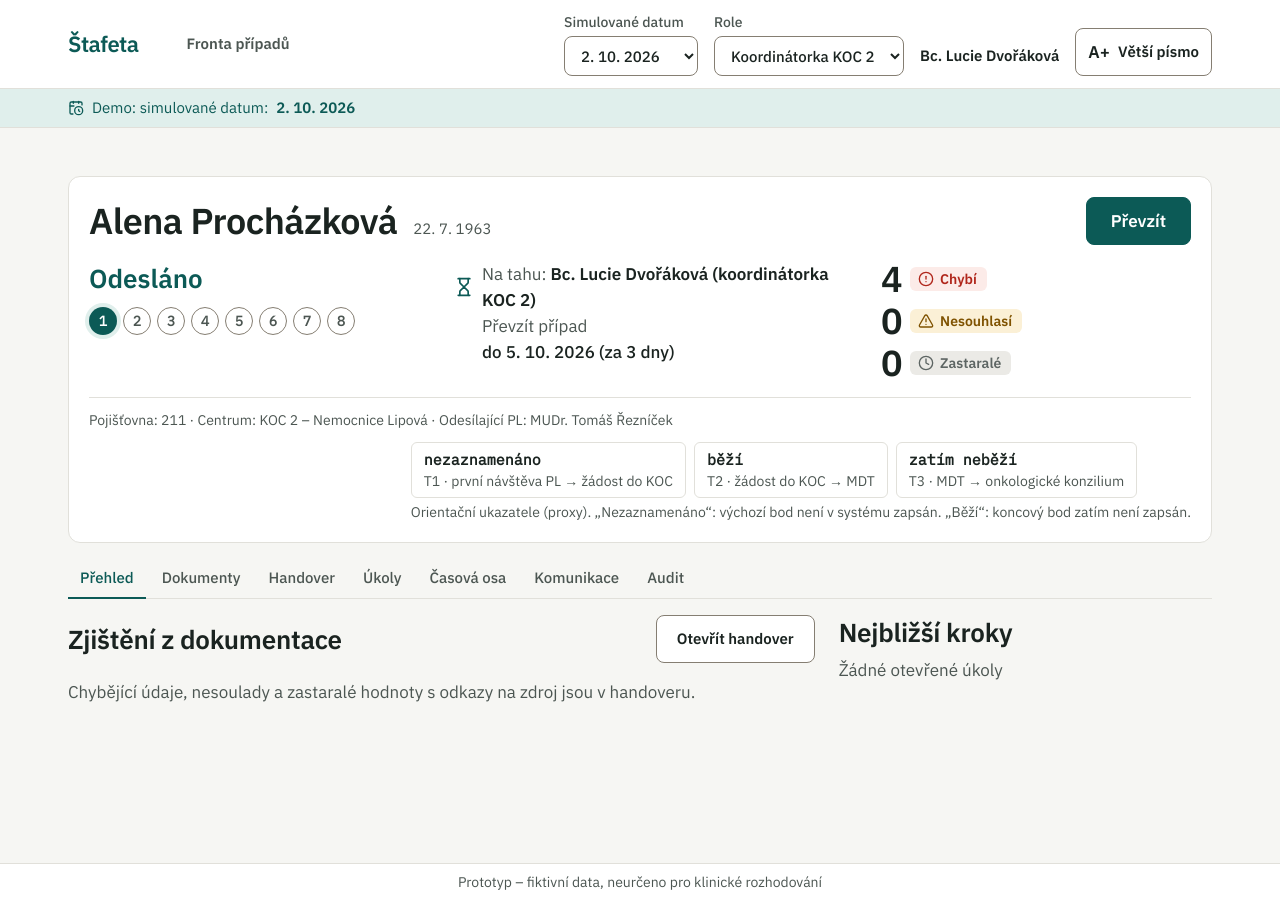
Scenario: demo steps 2 and 4 › claim shows the problem title when the backend refuses
The width and height of the screenshot is (1280, 900).
Click the button with aria-label "Převzít případ: Alena Procházková". click: (1138, 221)
box: [1086, 197, 1191, 245]
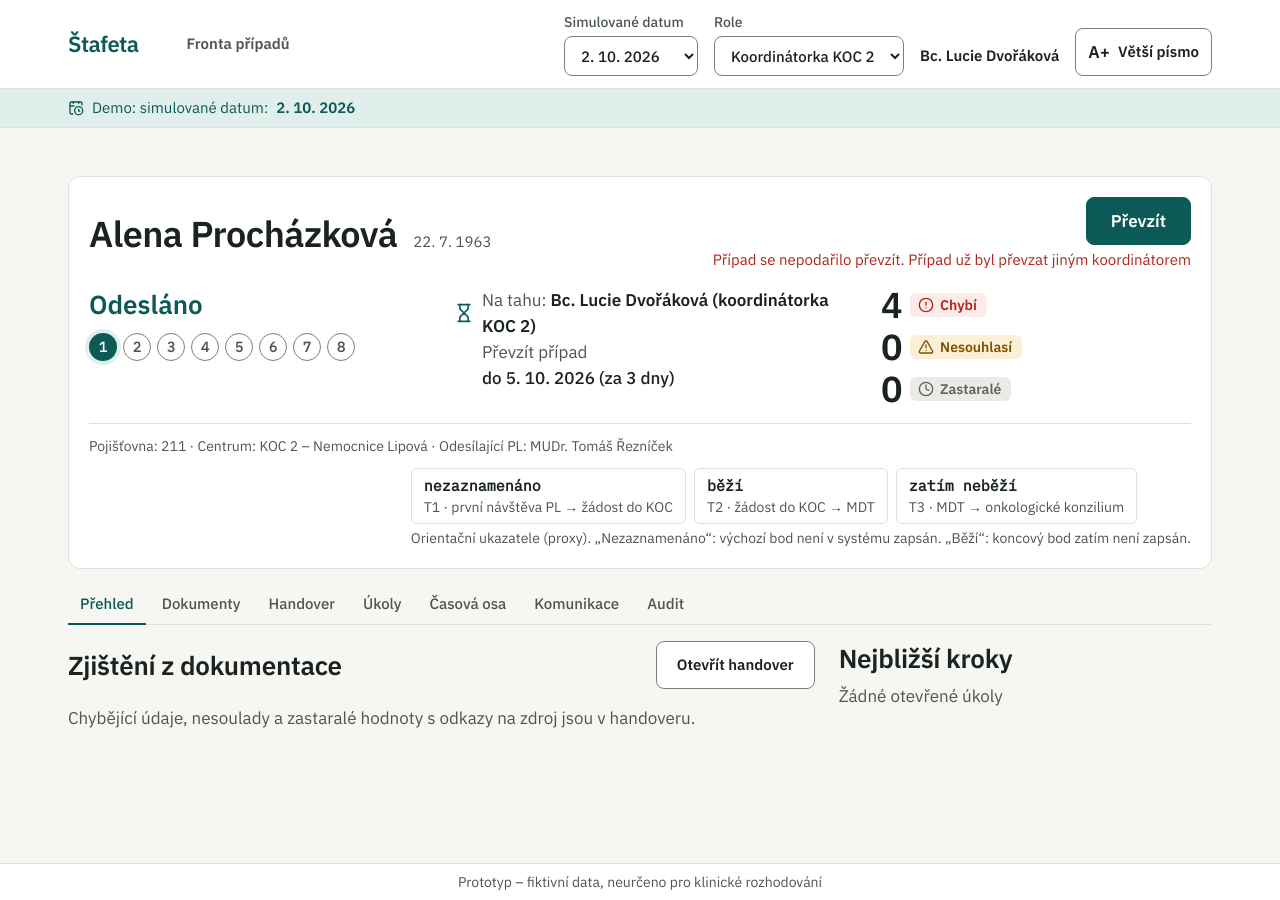
Check: the message reads "Případ se nepodařilo převzít. Případ už byl převzat jiným koordinátorem", box [713, 249, 1191, 271]
